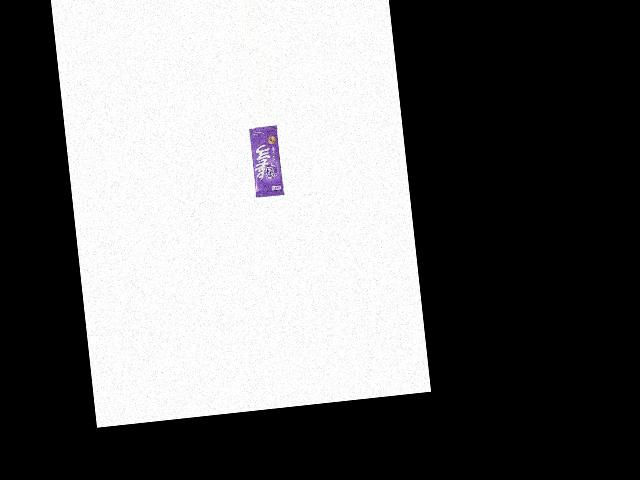chocolate: (247, 124, 288, 201)
